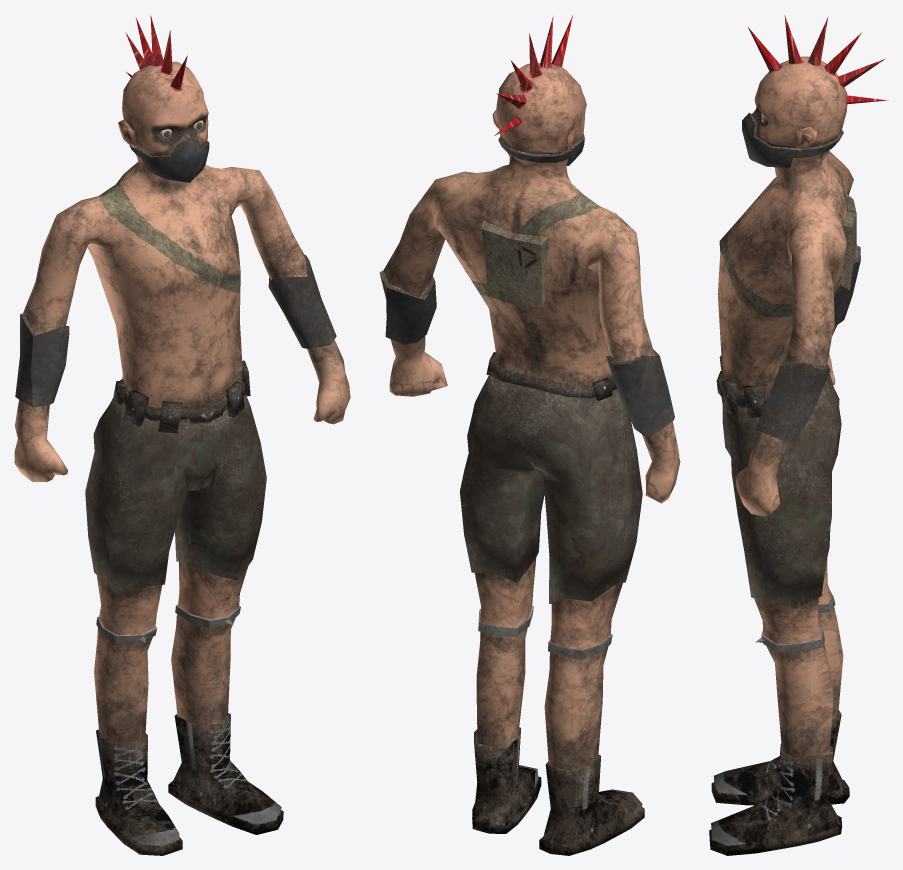
The model's file is Anim_disparar_pistola_npc2.0036.obj.
3 views of the same model, side by side, from view 1: azimuth 30°, elevation 25°; view 2: azimuth 150°, elevation 25°; view 3: azimuth 270°, elevation 25° (orthographic). The views are drawn at different scales.
Visible parts, largest first — view 1: polySurface1; view 2: polySurface1; view 3: polySurface1.
Boxes of the visible parts, x1,y1,x2,y2 form: polySurface1: [14, 15, 350, 855]; polySurface1: [379, 15, 680, 855]; polySurface1: [709, 15, 888, 855].
Bounding box in the file's own units: 4.13 × 10.21 × 2.07.
